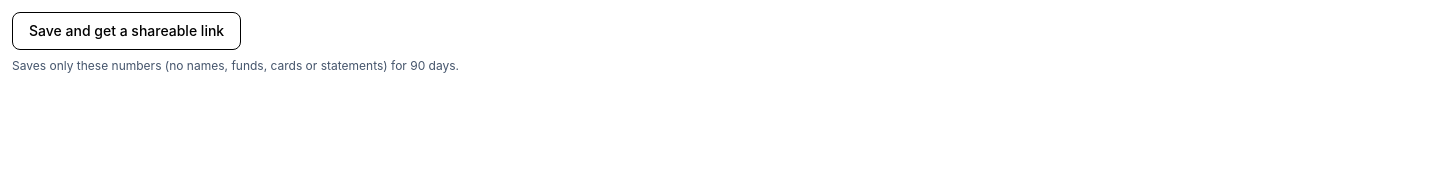
Test: SaveScore › shows an error when saving fails
The width and height of the screenshot is (1452, 172).
Click the button "Save and get a shareable link" at (127, 31), box [12,12,241,50]
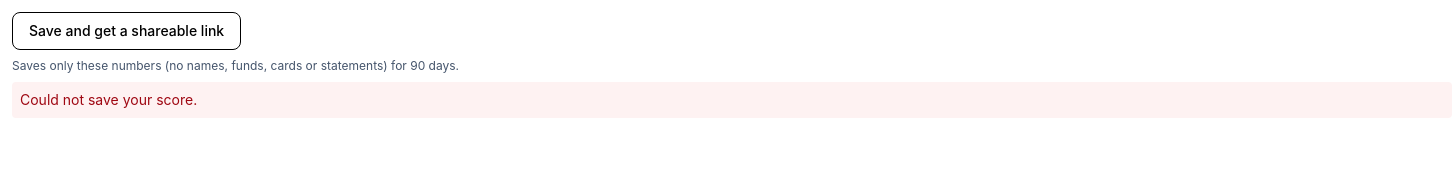
Result: the message shows "Could not save" at [20,91,197,108]
